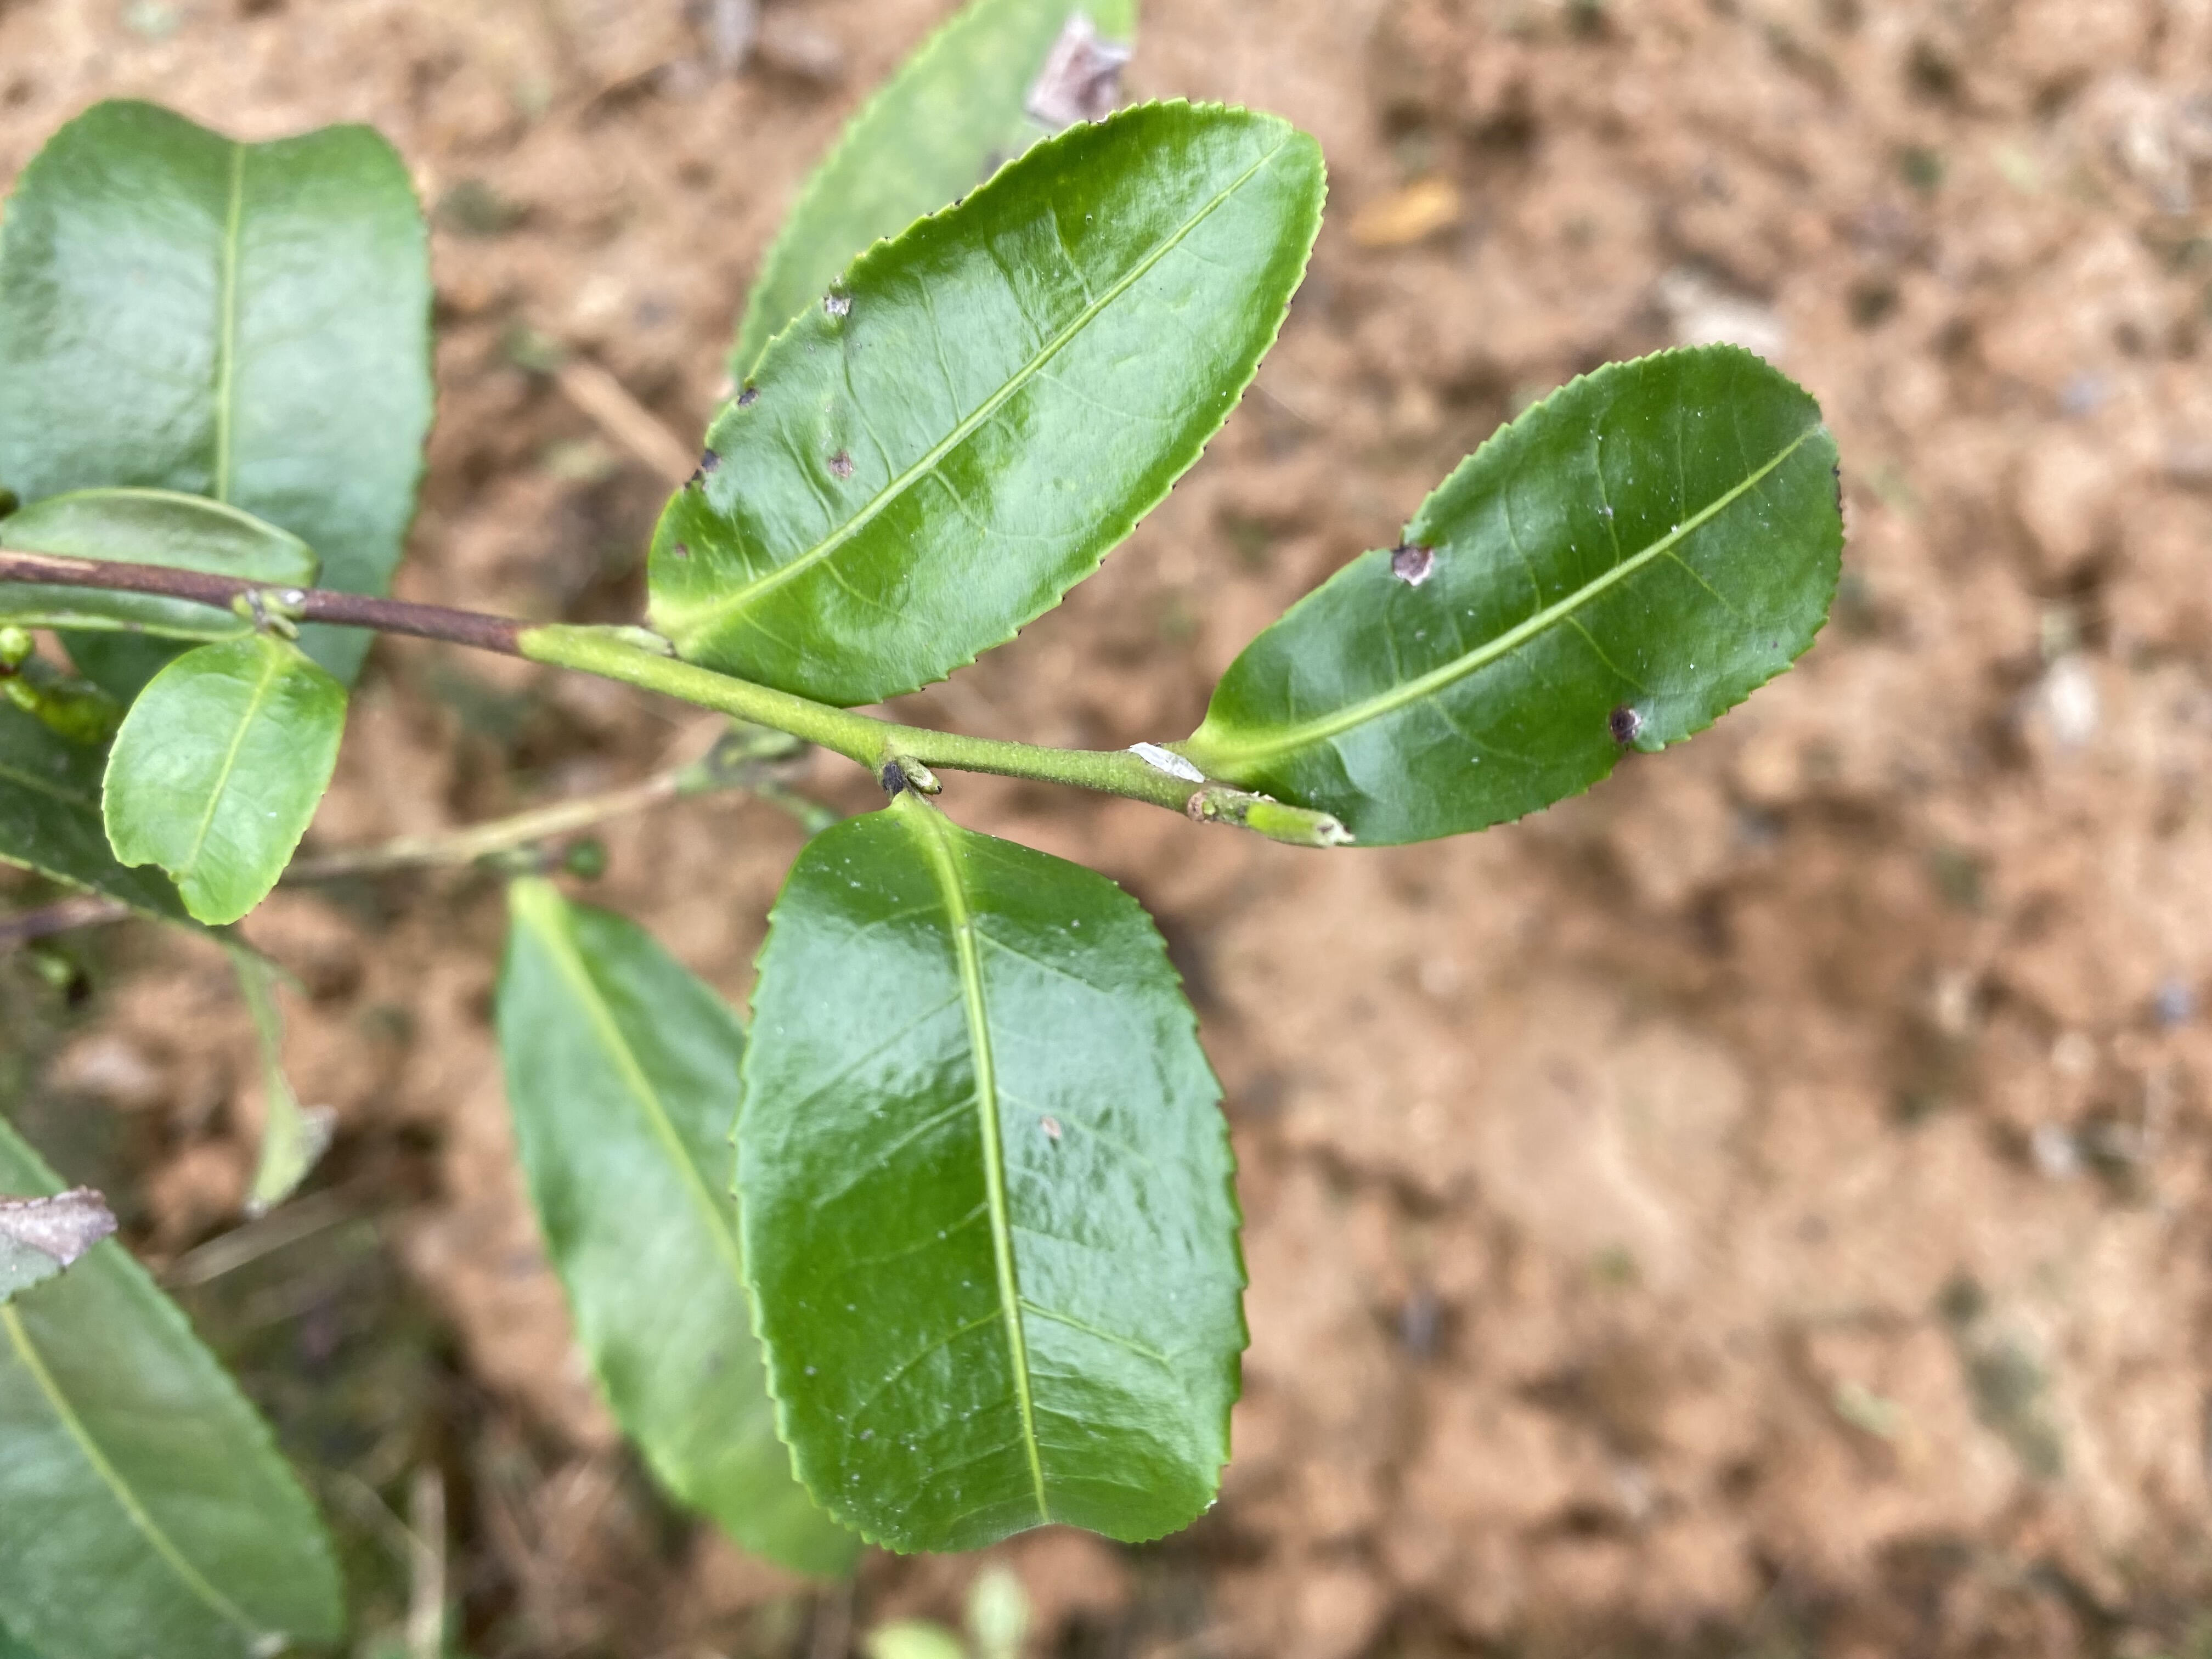chihuo_low: (103, 631, 352, 927)
tanju_low: (644, 98, 1331, 708), (730, 798, 1251, 1558), (1197, 342, 1851, 849)
